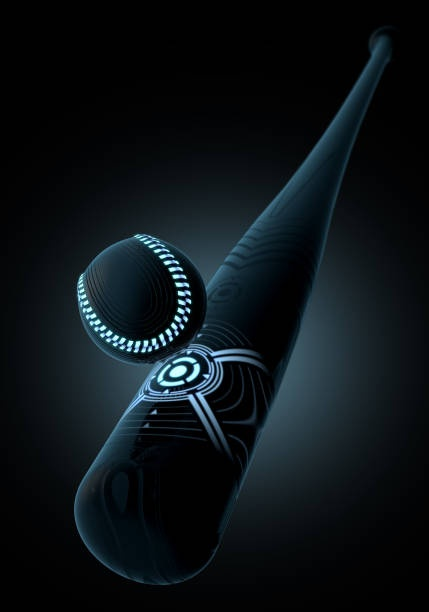bita: (72, 34, 389, 588)
